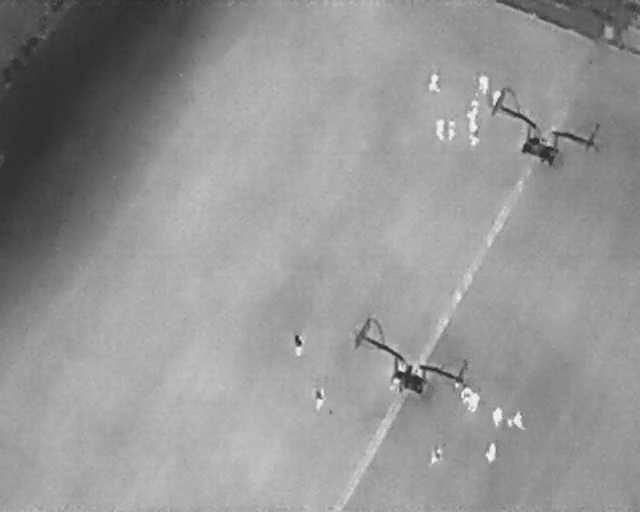Person: (505, 409, 527, 434), (462, 390, 483, 415), (311, 386, 327, 412), (426, 70, 442, 95), (467, 120, 481, 146), (428, 446, 445, 466), (466, 97, 479, 123), (485, 441, 498, 463), (293, 332, 304, 357), (488, 87, 501, 108), (478, 72, 489, 94), (388, 376, 402, 393), (435, 119, 445, 142), (446, 118, 455, 141), (492, 407, 502, 427), (459, 387, 472, 398), (410, 363, 421, 376), (396, 360, 405, 372)
